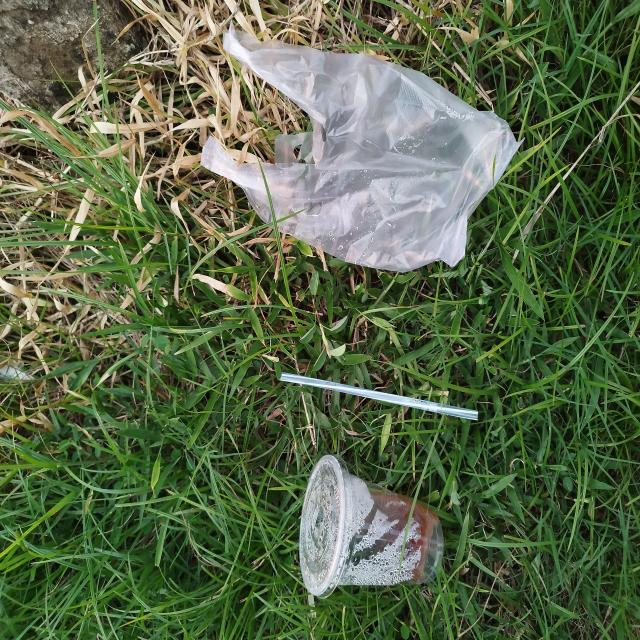bag: (198, 30, 529, 275)
drinking straw: (278, 371, 479, 422)
plastic glass: (298, 453, 446, 598)
